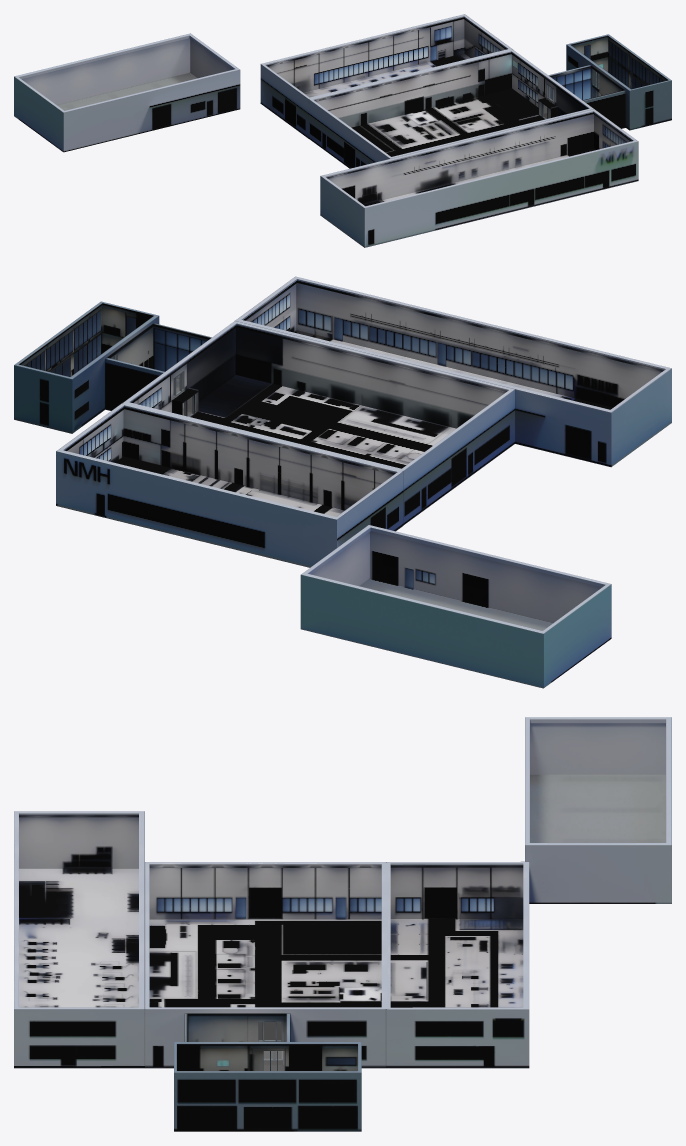
The model's file is walls.glb.
The picture shows the model from 3 angles, top to bottom: view 1: azimuth 30°, elevation 25°; view 2: azimuth 150°, elevation 25°; view 3: azimuth 270°, elevation 25°; orthographic projection. The views are drawn at different scales.
Visible parts, largest first — view 1: Kunststoff.002, fertigung.002, montage.003, montage.001, foyer.002, Cafeteria.002; view 2: fertigung.002, montage.001, montage.003, Kunststoff.002, foyer.002, Cafeteria.002; view 3: fertigung.002, Kunststoff.002, montage.001, montage.003, foyer.002, Cafeteria.002.
Boxes of the visible parts, <box> form: Kunststoff.002: <box>320,109,638,247</box>; fertigung.002: <box>309,49,593,168</box>; montage.003: <box>14,33,240,152</box>; montage.001: <box>260,14,512,138</box>; foyer.002: <box>566,34,671,130</box>; Cafeteria.002: <box>548,65,625,128</box>; fertigung.002: <box>122,321,514,524</box>; montage.001: <box>56,403,403,567</box>; montage.003: <box>300,525,611,688</box>; Kunststoff.002: <box>235,276,671,467</box>; foyer.002: <box>14,301,159,433</box>; Cafeteria.002: <box>105,323,211,412</box>; fertigung.002: <box>144,862,387,1068</box>; Kunststoff.002: <box>14,811,144,1068</box>; montage.001: <box>386,861,529,1068</box>; montage.003: <box>525,717,671,903</box>; foyer.002: <box>174,1042,361,1131</box>; Cafeteria.002: <box>185,1013,289,1070</box>.
Size of the model in its own units: 86.23 by 6.79 by 67.69.
3 materials, 1 textured.
